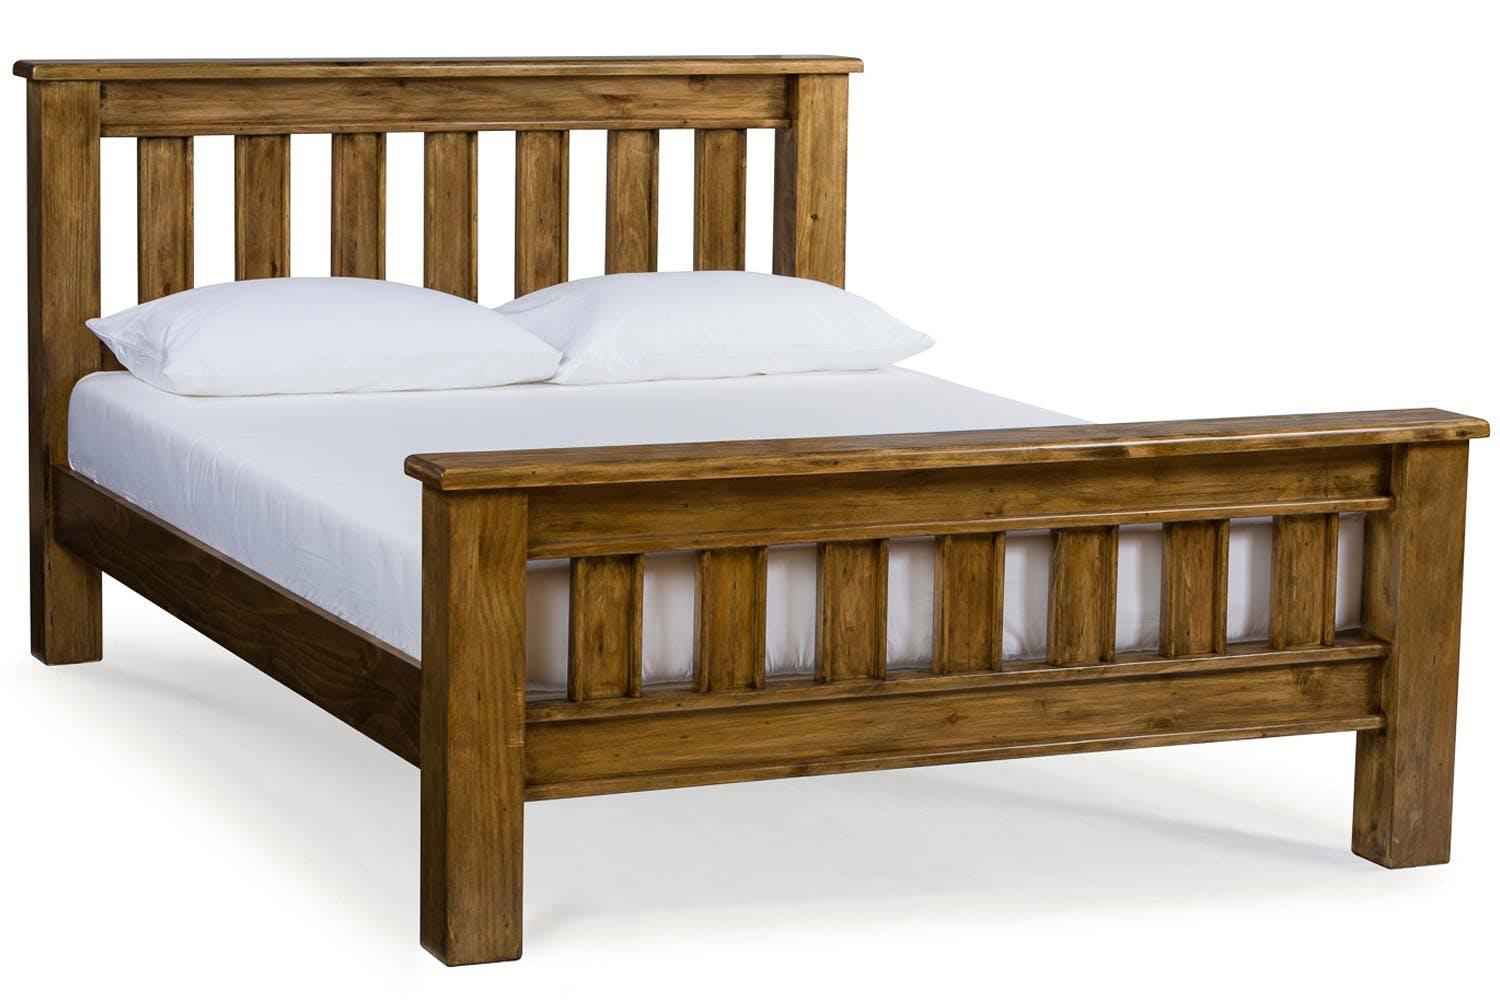bed: (50, 20, 1500, 795)
